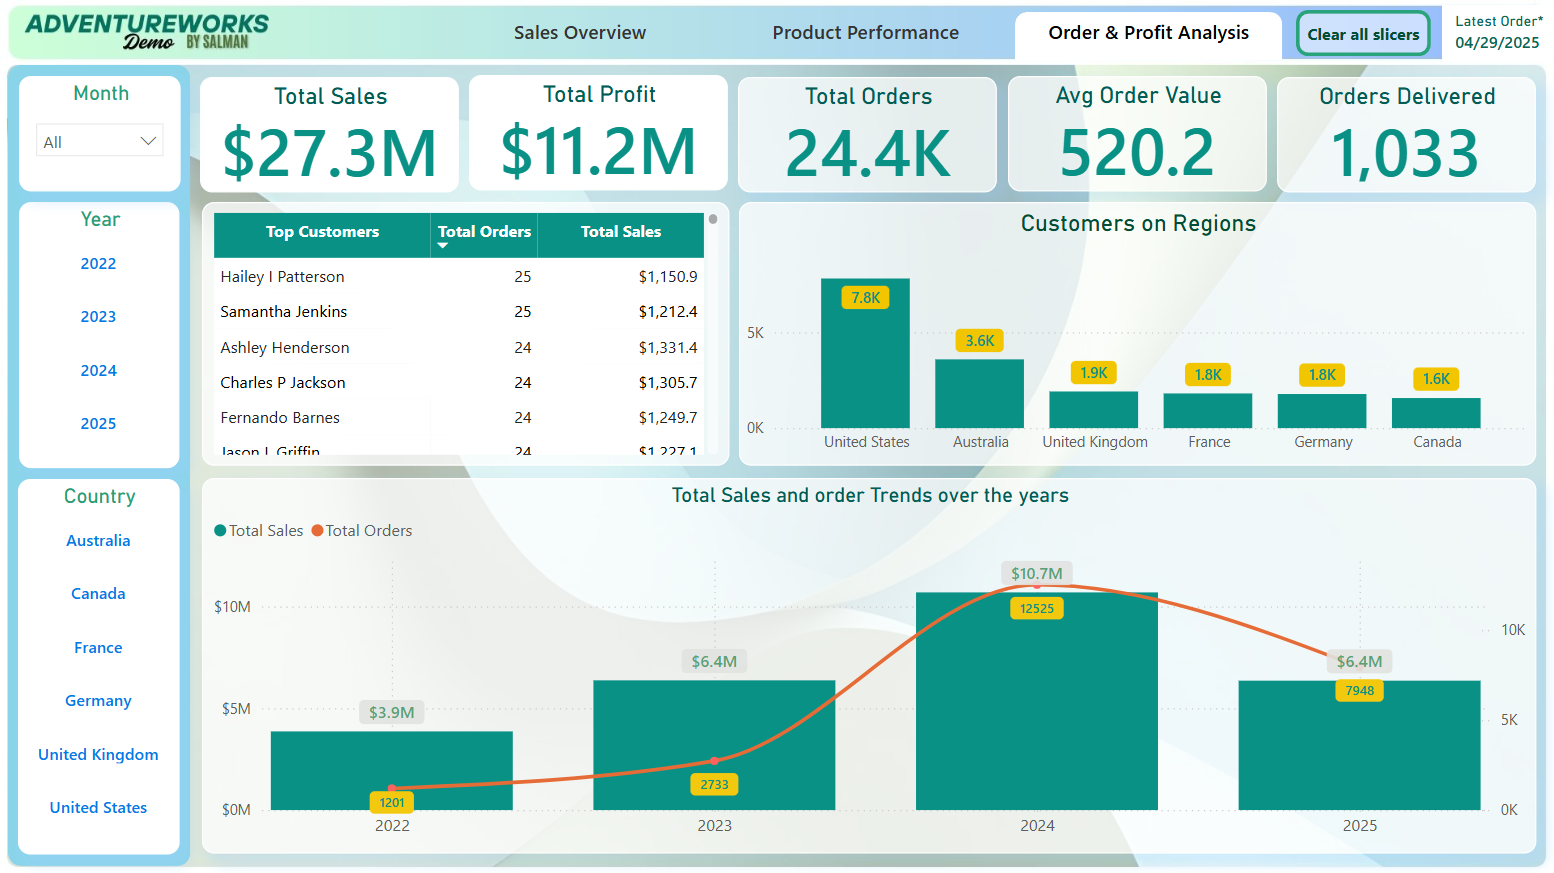

What the dashboard file says about the page in this screenshot:
{"tool":"powerbi","page":{"name":"Order & Profit Analysis","canvas":[1280,720],"ordinal":2},"visuals":[{"type":"shape","box":[7.4,53.8,150.4,659],"z":0,"group":"g1"},{"type":"card","title":"Total Orders","fields":{"Values":["_Mesures.Total Orders"]},"box":[608.5,63,213,94.9],"z":0},{"type":"card","title":"Avg Order Value","fields":{"Values":["_Mesures.Average Order Value"]},"box":[830.2,62.9,213,95.2],"z":1000},{"type":"advancedSlicerVisual","title":"Year","fields":{"Values":["DimDate.CalendarYear"]},"box":[16.3,166.5,131.7,218.9],"z":1000,"group":"g1"},{"type":"slicer","title":"Month","fields":{"Values":["DimDate.EnglishMonthName"]},"box":[16.1,62.5,133.2,95],"z":2000,"group":"g1"},{"type":"actionButton","title":"SalesOverviewButton","box":[368.2,10,221,40],"z":2000},{"type":"card","title":"Orders Delivered","fields":{"Values":["_Mesures.OrderShipped"]},"box":[1052,63,212.8,94.9],"z":3000},{"type":"advancedSlicerVisual","title":"Country","fields":{"Values":["DimCustomer.EnglishCountryRegionName"]},"box":[15.8,394.5,132.7,309.1],"z":3000,"group":"g1"},{"type":"lineStackedColumnComboChart","title":"Customers on Regions","fields":{"Category":["DimCustomer.EnglishCountryRegionName"],"Y":["_Mesures.Customers"]},"box":[609.2,166,655.7,217.3],"z":4000},{"type":"actionButton","title":"OnP Button","box":[836.4,10,220.2,40],"z":5000},{"type":"lineClusteredColumnComboChart","title":"Total Sales and order Trends over the years","fields":{"Category":["DimDate.CalendarYear"],"Y":["_Mesures.Total Sales"],"Y2":["_Mesures.Total Orders"]},"box":[166.7,393.7,1097.7,308.6],"z":6000},{"type":"tableEx","title":"Top Customers","fields":{"Values":["DimCustomer.Merged Customer Names","_Mesures.Total Orders","_Mesures.Total Sales"]},"box":[166.7,165.8,433.6,217.2],"z":7000},{"type":"actionButton","title":"PP Button","box":[603.3,10,220.2,40],"z":8000},{"type":"card","title":"Total Sales","fields":{"Values":["_Mesures.Total Sales"]},"box":[165,63,213,94.9],"z":9000},{"type":"actionButton","title":"Slicer Button","box":[1067,7,111,38],"z":10000},{"type":"card","title":"Total Profit","fields":{"Values":["_Mesures.Total Discount"]},"box":[386.8,62.1,213,94.9],"z":11000},{"type":"group","id":"g1","title":"Group 1","box":[7.4,53.8,150.4,659],"z":12000},{"type":"card","title":"Latest Order*","fields":{"Values":["_Mesures.MaxDate"]},"box":[1187,4,93,45],"z":13000}]}

Visuals, with their boxes in screenshot pixels (x1, y1, x2, y2), scaled from the page's 1280x720 canvas onto the 1554x873 screenshot:
shape: 9/65/192/864
"Total Orders" card: 739/76/997/191
"Avg Order Value" card: 1008/76/1267/192
"Year" advancedSlicerVisual: 20/202/180/467
"Month" slicer: 20/76/181/191
"SalesOverviewButton" actionButton: 447/12/715/61
"Orders Delivered" card: 1277/76/1536/191
"Country" advancedSlicerVisual: 19/478/180/853
"Customers on Regions" lineStackedColumnComboChart: 740/201/1536/465
"OnP Button" actionButton: 1015/12/1283/61
"Total Sales and order Trends over the years" lineClusteredColumnComboChart: 202/477/1535/852
"Top Customers" tableEx: 202/201/729/464
"PP Button" actionButton: 732/12/1000/61
"Total Sales" card: 200/76/459/191
"Slicer Button" actionButton: 1295/8/1430/55
"Total Profit" card: 470/75/728/190
"Group 1" group: 9/65/192/864
"Latest Order*" card: 1441/5/1553/59
